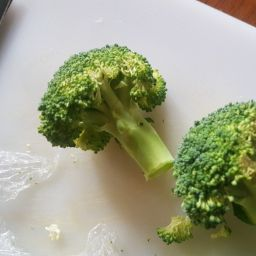Broccoli florets: (15, 39, 182, 192), (174, 68, 256, 250)
